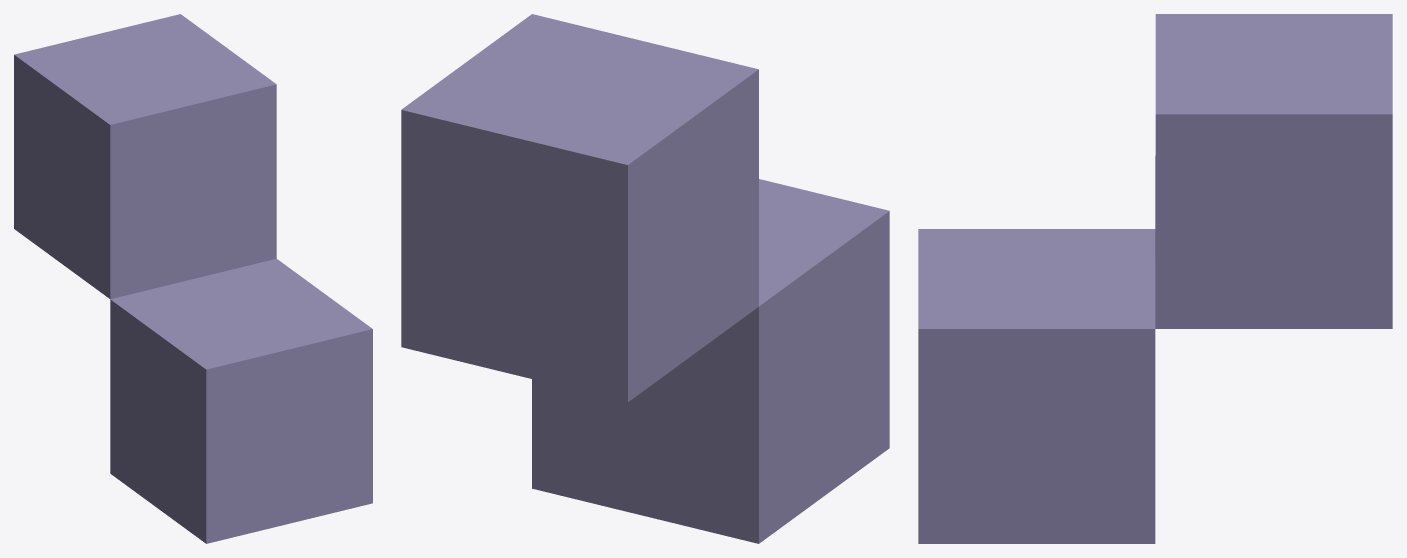
File: can_frosty-1.fbx
The picture shows the model from 3 angles, left to right: view 1: azimuth 30°, elevation 25°; view 2: azimuth 150°, elevation 25°; view 3: azimuth 270°, elevation 25°; orthographic projection. The views are drawn at different scales.
Visible parts, largest first — view 1: can_frosty-1.001; view 2: can_frosty-1.001; view 3: can_frosty-1.001.
Part boxes in pixels (<box>): can_frosty-1.001: <box>14,14,372,543</box>; can_frosty-1.001: <box>401,14,889,543</box>; can_frosty-1.001: <box>918,14,1392,543</box>.
Size of the model in its own units: 0.1 by 0.2 by 0.2.
Materials: 1 (1 with a texture image).
